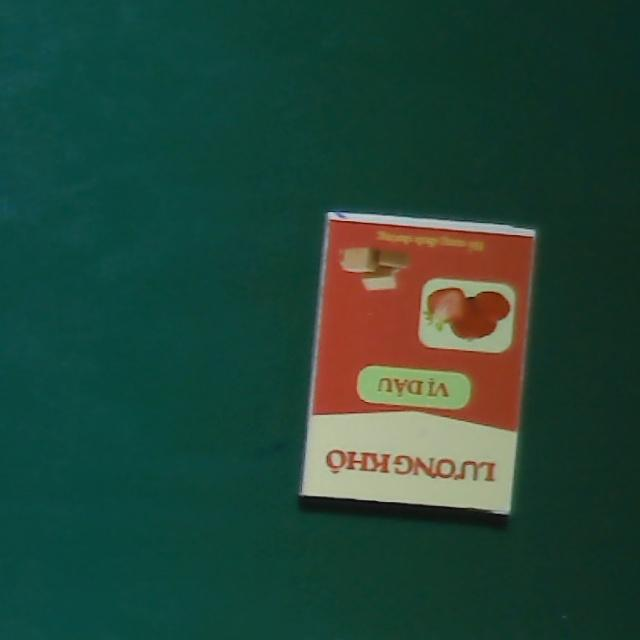dau: (299, 210, 536, 515)
